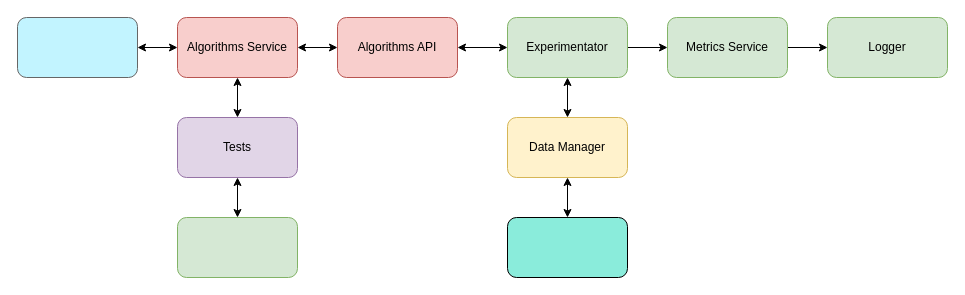
Image size: 965x295. Some labels were removed from this diagram. Here are the shapes that lost their labels. From the top down, the centre of each, then its label:
At (x=77, y=47): "Algorithms Impls".
At (x=237, y=247): "Tests Configuration Manager".
At (x=567, y=247): "Data Configuration Manager".
